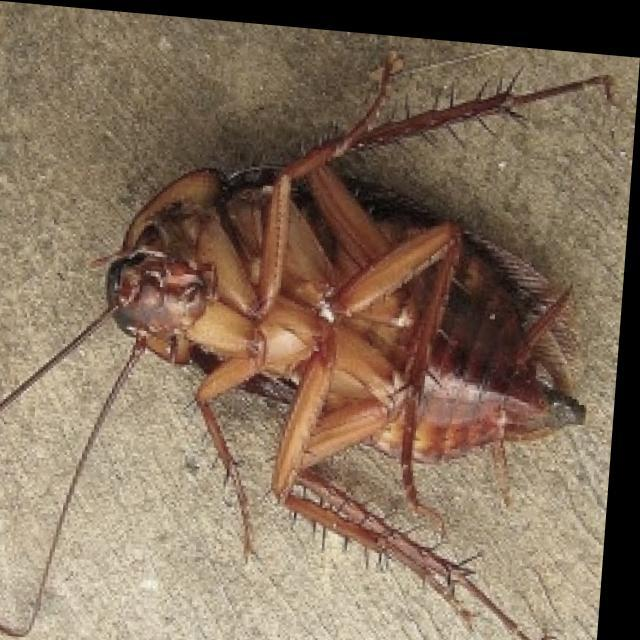cockroach: (66, 99, 599, 584)
